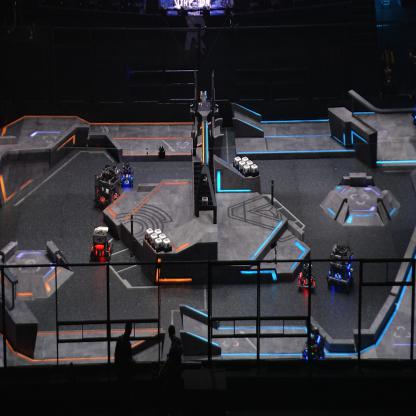car: (327, 243, 355, 289), (93, 165, 121, 209), (302, 326, 326, 366), (89, 224, 113, 264), (296, 262, 316, 293), (118, 160, 134, 189)
